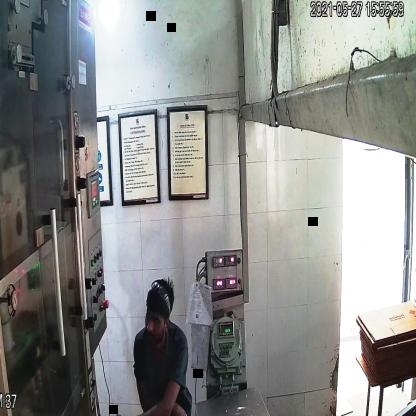no_goggles: (140, 308, 170, 332)
